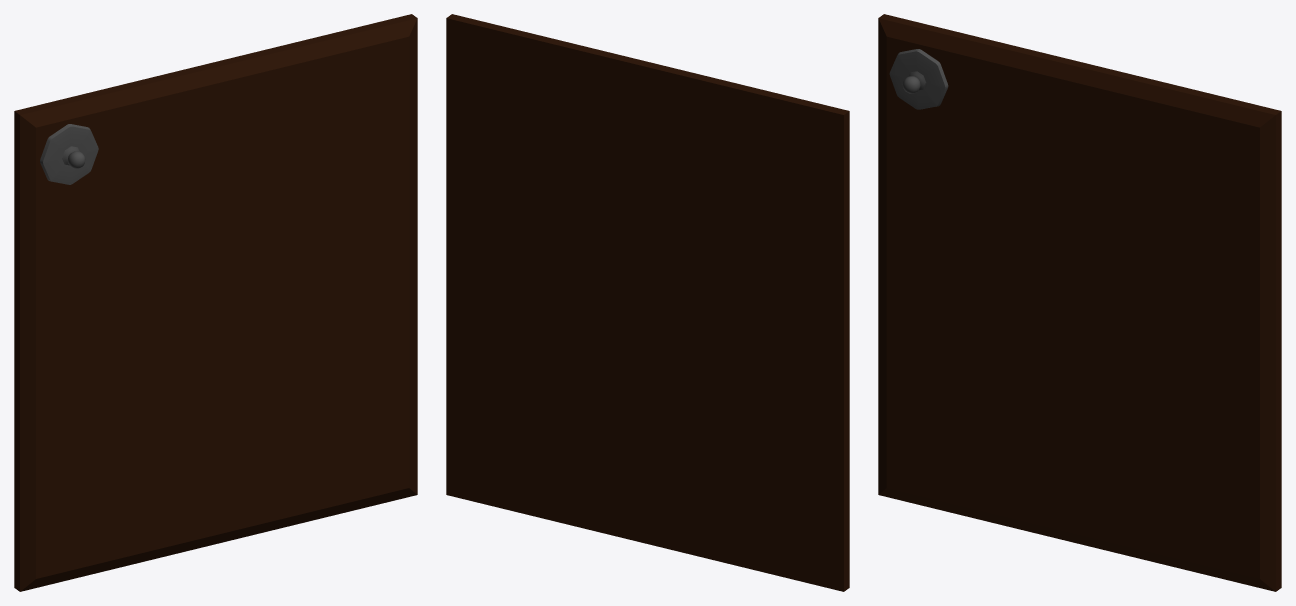
The model's file is cabinet_lower_door_right.FBX.
The picture shows the model from 3 angles, left to right: view 1: azimuth 30°, elevation 25°; view 2: azimuth 150°, elevation 25°; view 3: azimuth 330°, elevation 25°; orthographic projection.
Parts seen in each view (by area): view 1: cabinet_lower_door_right; view 2: cabinet_lower_door_right; view 3: cabinet_lower_door_right.
Part boxes in pixels (x1,y1,x2,y2): cabinet_lower_door_right: [14, 14, 417, 591]; cabinet_lower_door_right: [446, 14, 849, 591]; cabinet_lower_door_right: [878, 14, 1281, 591].
Size of the model in its own units: 32.64 by 37.41 by 3.1.
